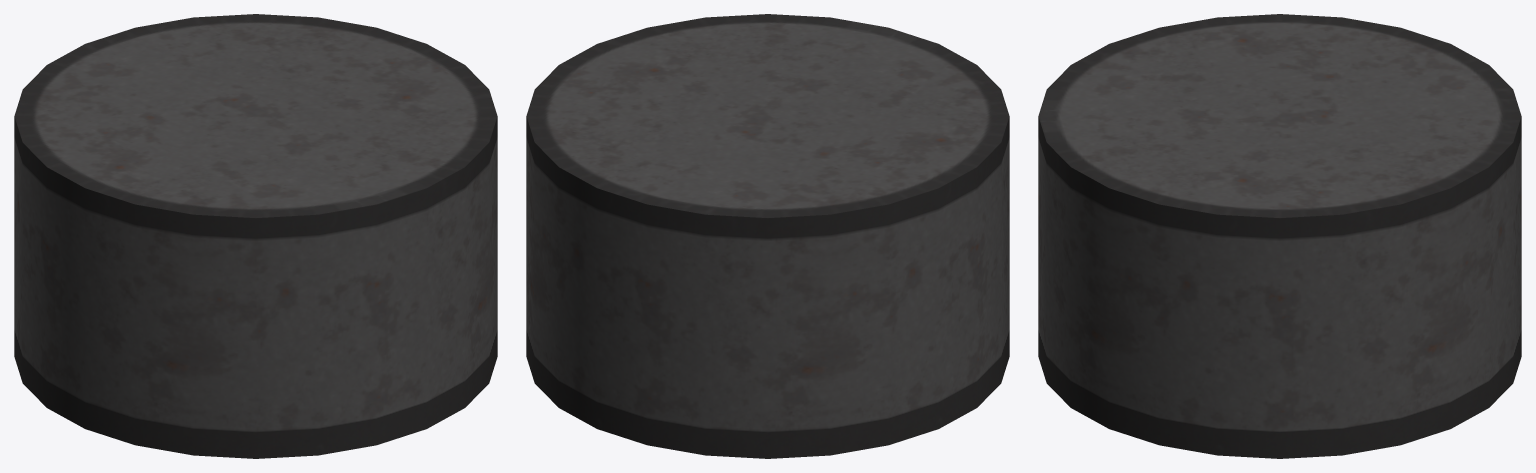
Rendered from barbette_m_2.fbx.
3 views of the same model, side by side, from view 1: azimuth 30°, elevation 25°; view 2: azimuth 150°, elevation 25°; view 3: azimuth 270°, elevation 25° (orthographic).
Visible parts, largest first — view 1: barbette_m_2; view 2: barbette_m_2; view 3: barbette_m_2.
Boxes of the visible parts, box(x1,y1,x2,y2) form: barbette_m_2: box(14, 14, 497, 458); barbette_m_2: box(526, 14, 1009, 458); barbette_m_2: box(1038, 14, 1521, 458).
Bounding box in the file's own units: 6 × 3.3 × 6.
